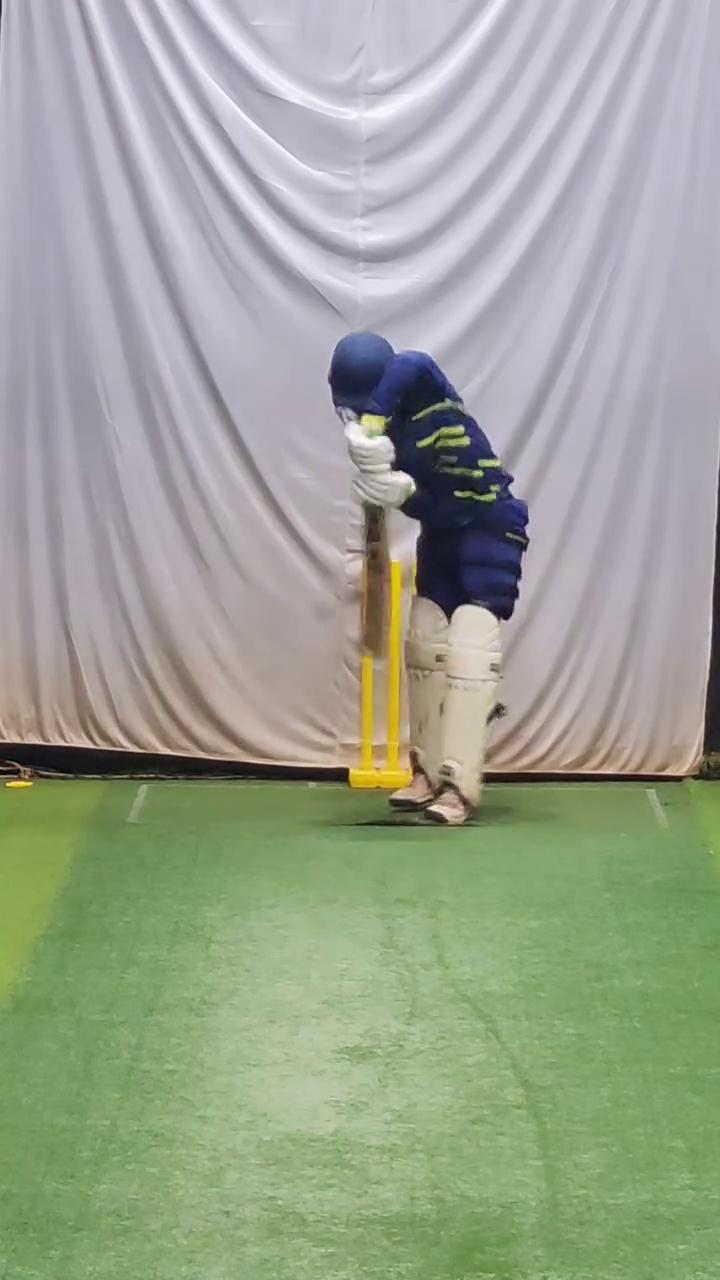bat: (359, 500, 390, 667)
